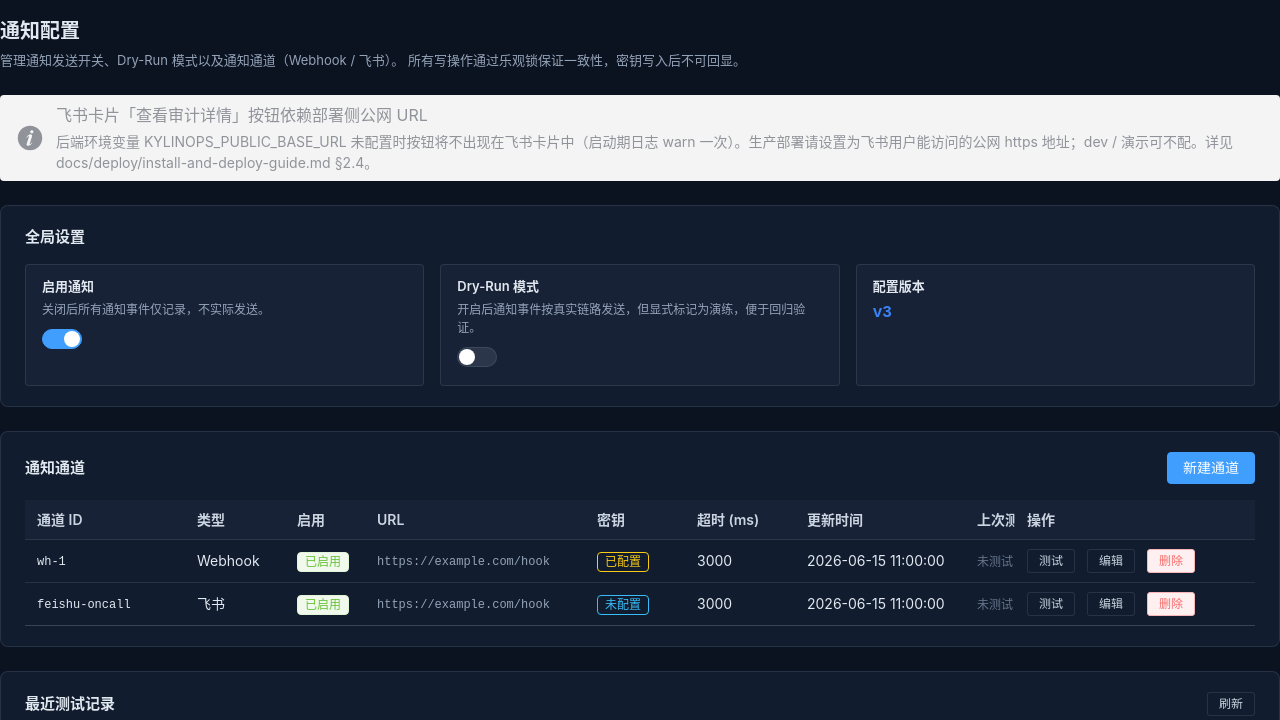
Test: NotificationSettings page — channel create › opens the dialog when 「新建通道」 is clicked
The width and height of the screenshot is (1280, 720).
Click the button with test id "notification-channel-add". click: (1211, 468)
box: [1167, 452, 1255, 484]
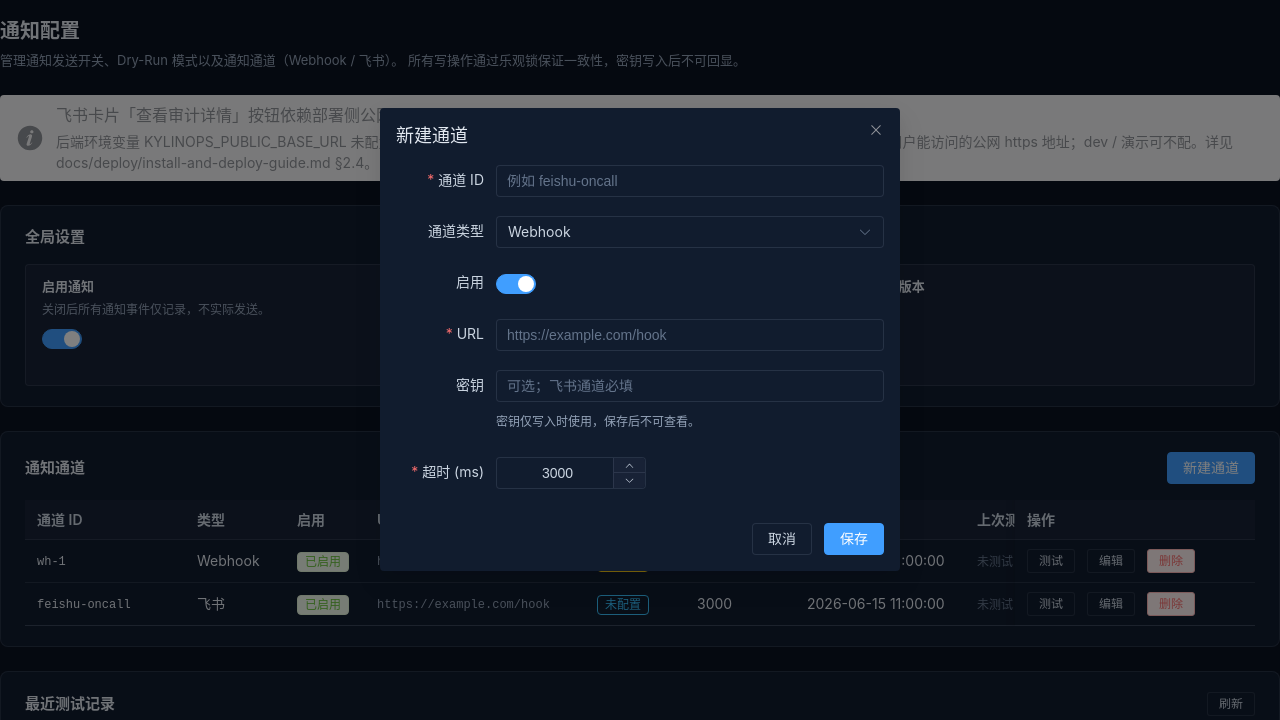
expect the element with test id "notification-channel-dialog" is shown: met, box [380, 108, 900, 571]
expect the field labelled "通道 ID" is shown: met, box [507, 166, 873, 196]
